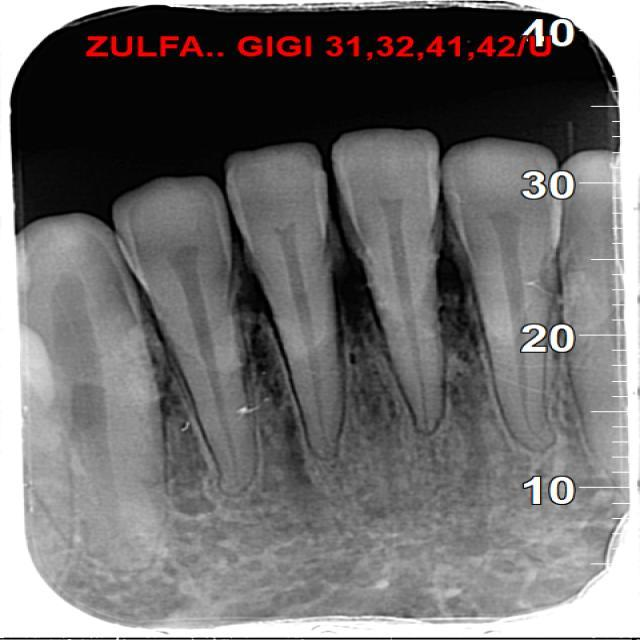individual-tooth-8tto: (110, 177, 259, 503), (219, 143, 343, 455), (440, 136, 557, 458), (328, 127, 448, 439)
